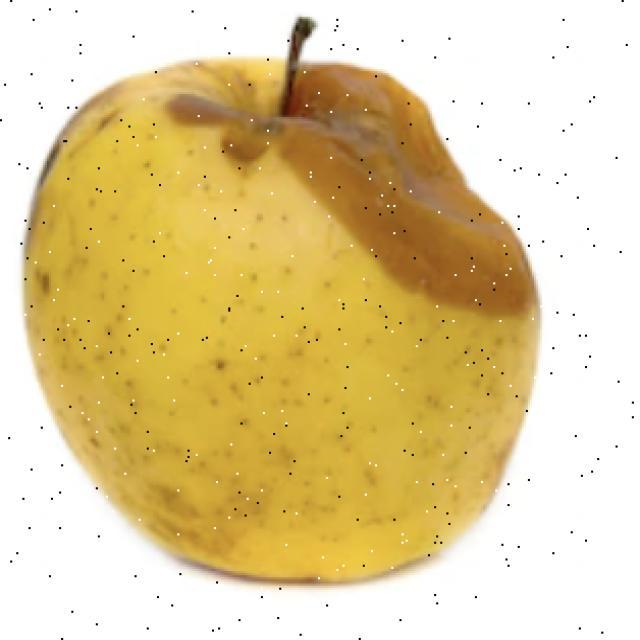Rotten: (47, 63, 533, 592)
